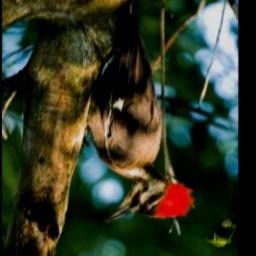Woodpecker: (75, 0, 194, 226)
